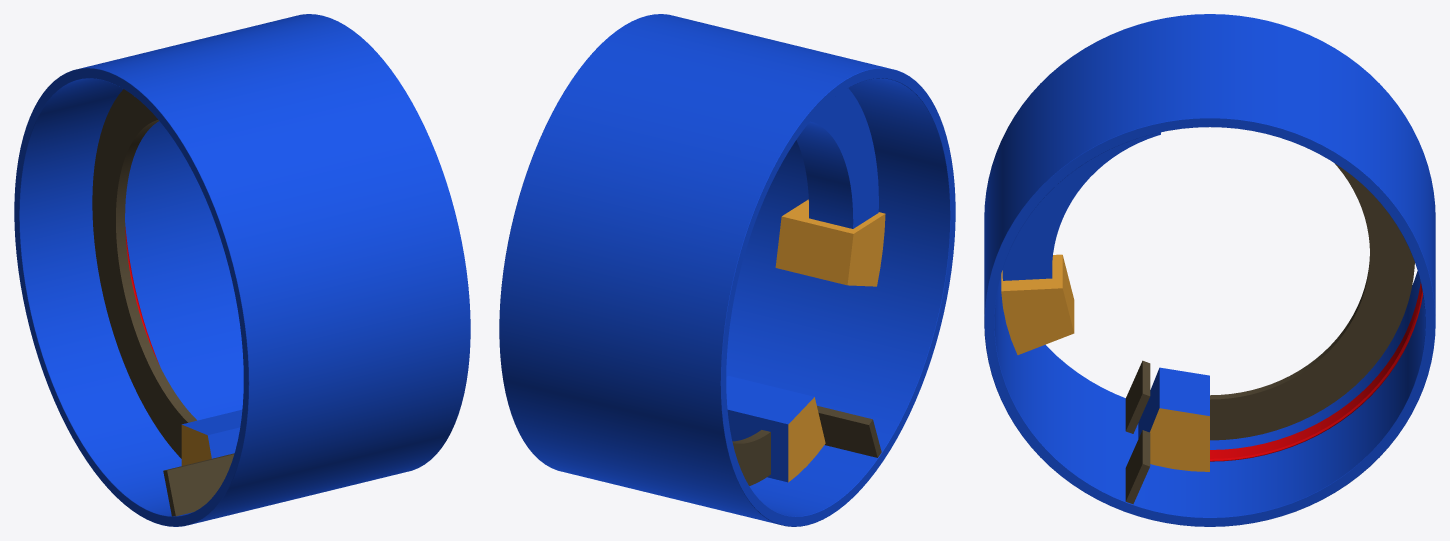
The model's file is level_3_combined.fbx.
The picture shows the model from 3 angles, left to right: view 1: azimuth 30°, elevation 25°; view 2: azimuth 150°, elevation 25°; view 3: azimuth 270°, elevation 25°; orthographic projection. The views are drawn at different scales.
Visible parts, largest first — view 1: level_3_main, level_3_pushable; view 2: level_3_main, level_3_pushable; view 3: level_3_main, level_3_pushable.
Part boxes in pixels (bbox=[...]): level_3_main: bbox=[14, 14, 470, 526]; level_3_pushable: bbox=[92, 89, 242, 465]; level_3_main: bbox=[499, 14, 955, 526]; level_3_pushable: bbox=[726, 88, 885, 485]; level_3_main: bbox=[984, 14, 1435, 526]; level_3_pushable: bbox=[1001, 132, 1414, 471].
Size of the model in its own units: 2200 by 1200 by 2200.
